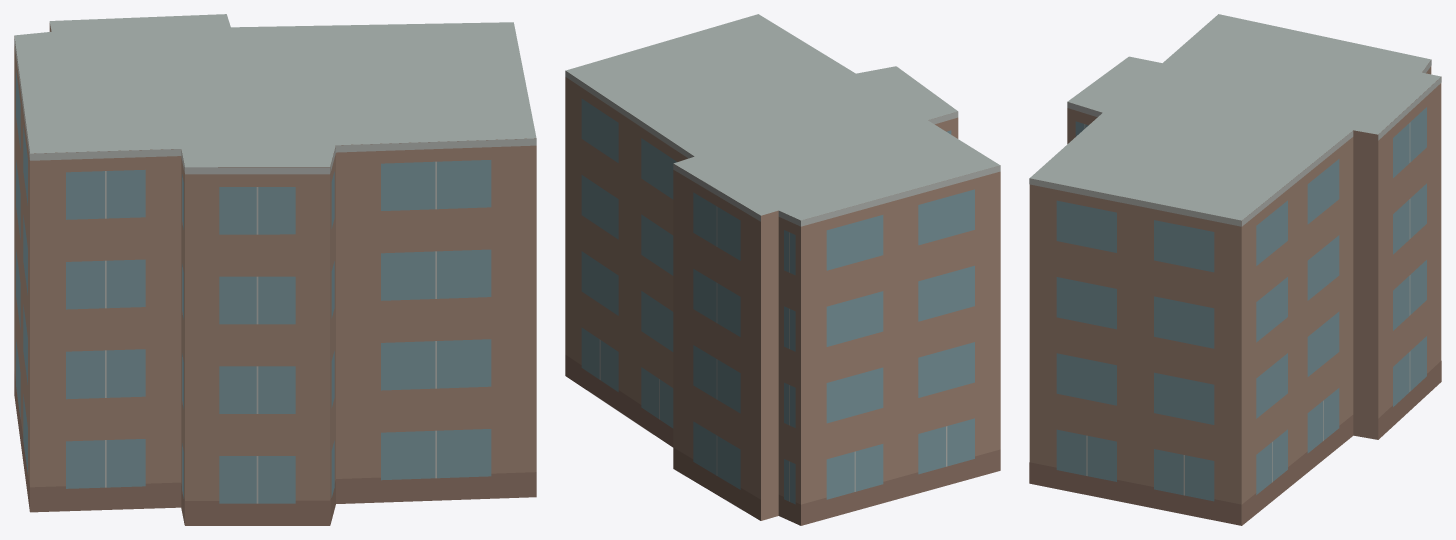
Rendered from survey-upis-32920526.glb.
3 views of the same model, side by side, from view 1: azimuth 30°, elevation 25°; view 2: azimuth 150°, elevation 25°; view 3: azimuth 270°, elevation 25° (orthographic). The views are drawn at different scales.
Parts seen in each view (by area): view 1: survey-upis-32920526.tmp; view 2: survey-upis-32920526.tmp; view 3: survey-upis-32920526.tmp.
Part boxes in pixels (x1,y1,x2,y2): survey-upis-32920526.tmp: (14,14,536,525); survey-upis-32920526.tmp: (565,14,1000,525); survey-upis-32920526.tmp: (1029,14,1441,525).
Bounding box in the file's own units: 17.57 × 12.1 × 14.81.
